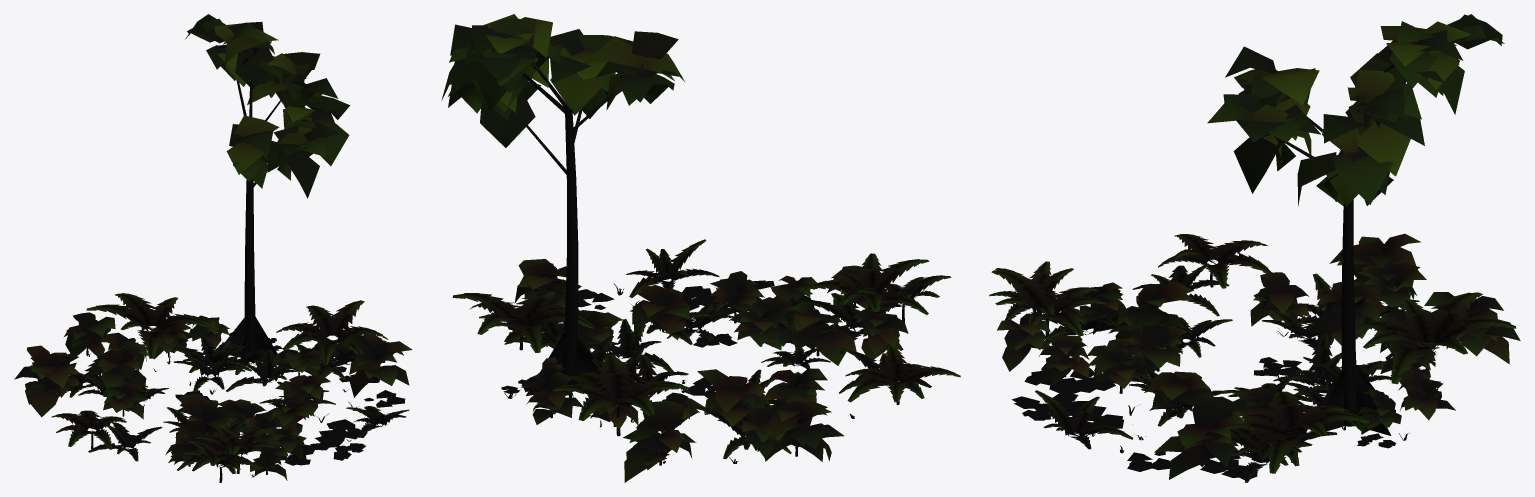
Rendered from patch_thicket.glb.
The picture shows the model from 3 angles, left to right: view 1: azimuth 30°, elevation 25°; view 2: azimuth 150°, elevation 25°; view 3: azimuth 270°, elevation 25°; orthographic projection. The views are drawn at different scales.
Parts seen in each view (by area): view 1: patch_thicket; view 2: patch_thicket; view 3: patch_thicket.
Boxes of the visible parts, box(x1,y1,x2,y2) form: patch_thicket: box(14, 14, 412, 482); patch_thicket: box(441, 14, 960, 482); patch_thicket: box(989, 14, 1520, 482).
Size of the model in its own units: 13.41 by 11.41 by 13.04.
Materials: 1 (1 with a texture image).
